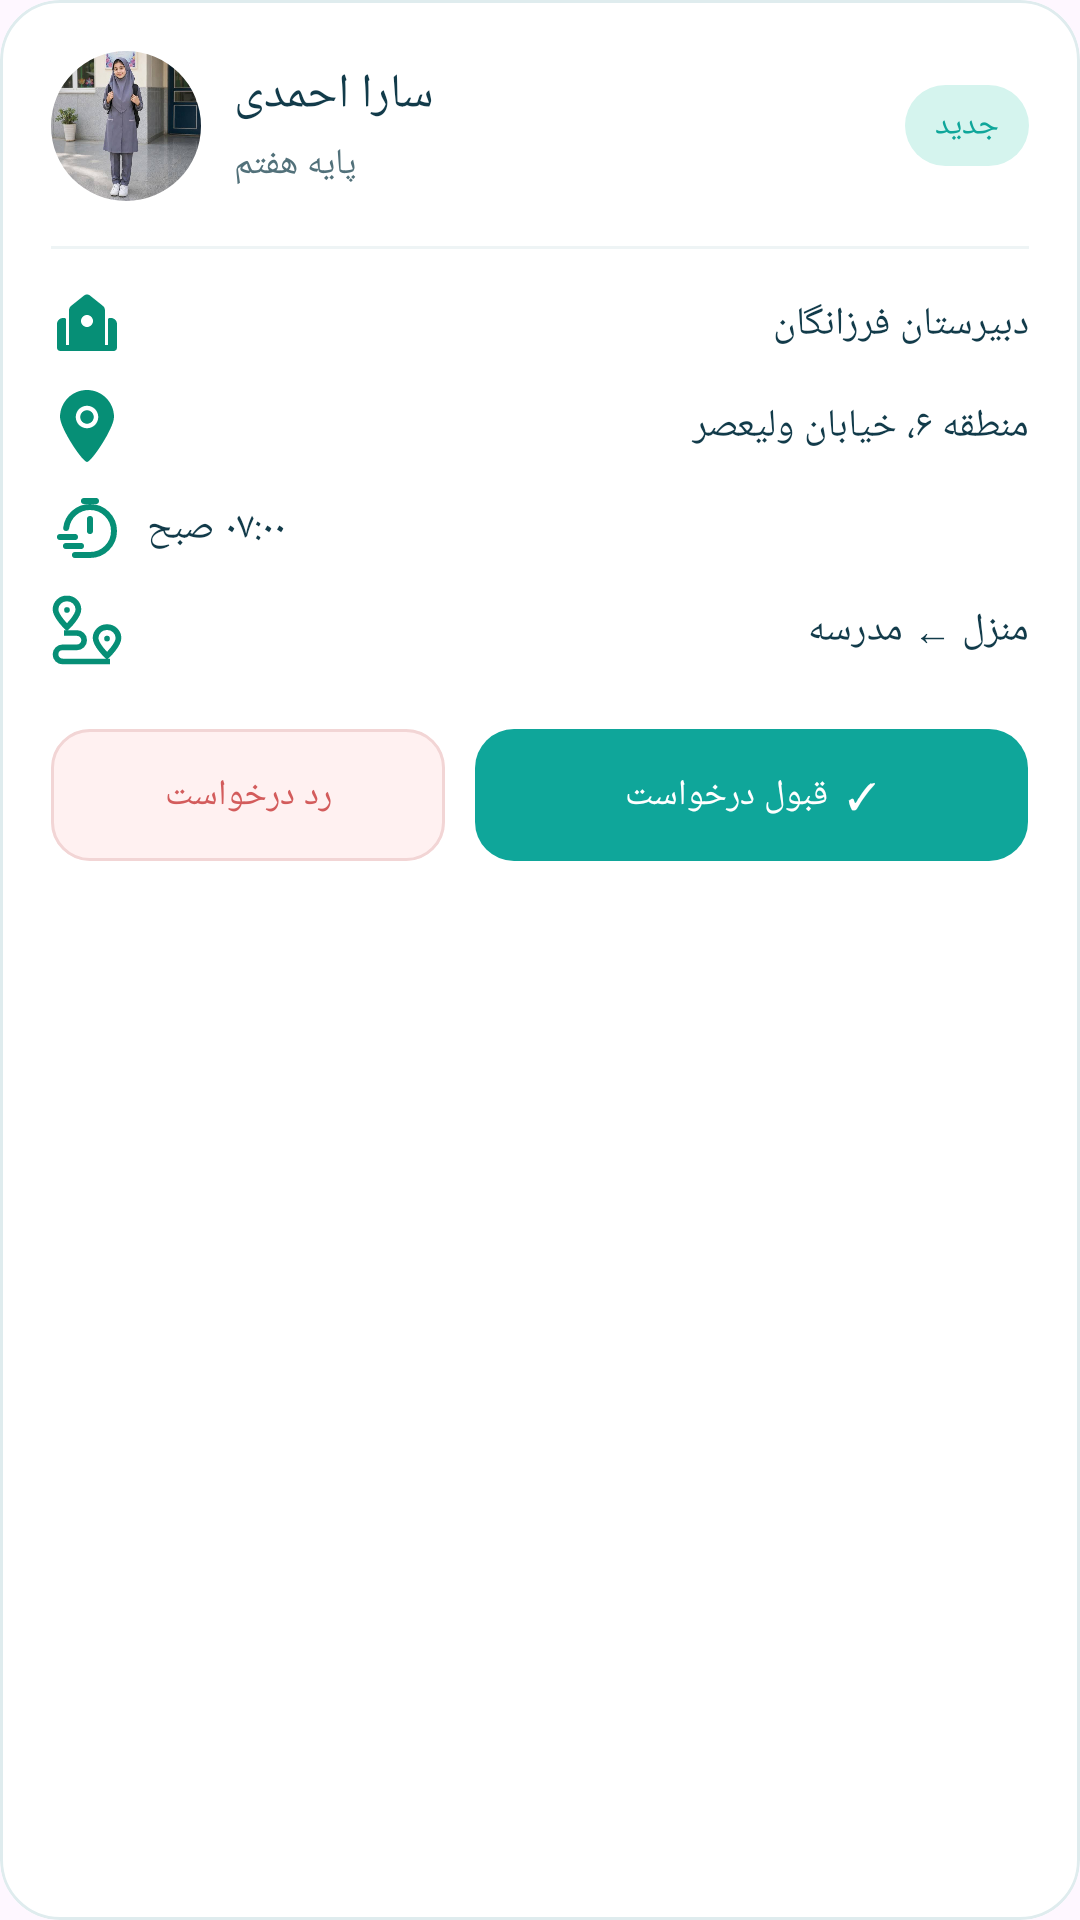

Point at icon controls on the screen. Image size 1080 x 1920, points as (x=x, y=y).
ساعت: (x=87, y=528)
مدرسه: (x=87, y=322)
مسیر: (x=87, y=630)
موقعیت: (x=87, y=426)
